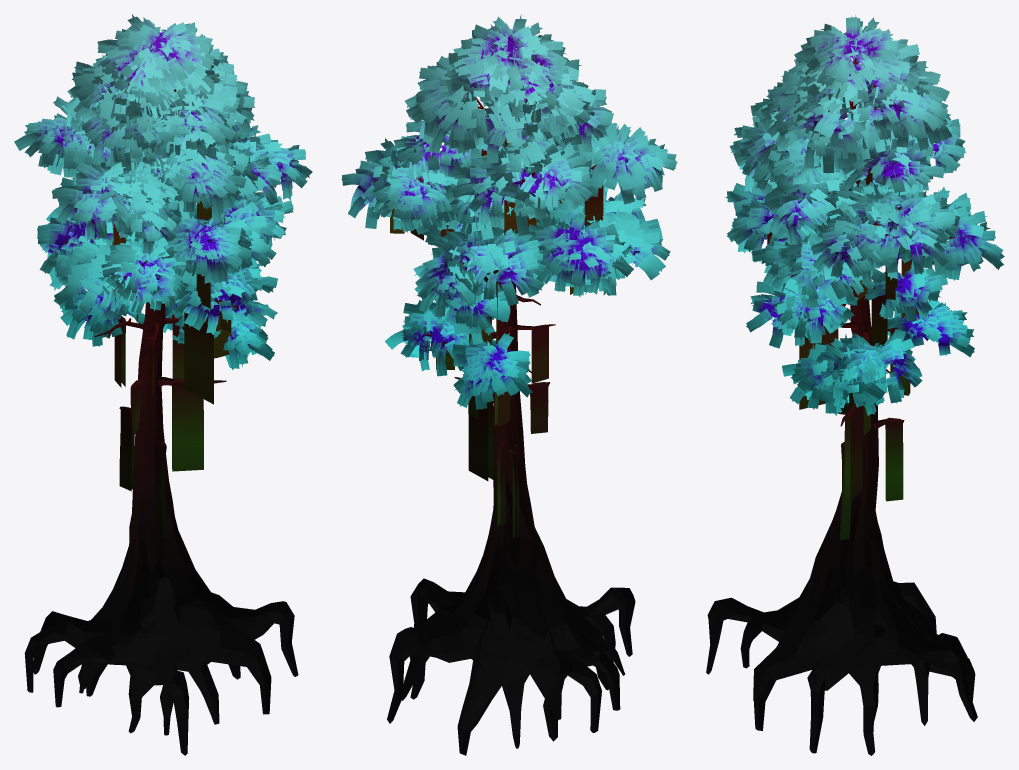
Rendered from SM_Env_Tree_Swamp_01.fbx.
3 views of the same model, side by side, from view 1: azimuth 30°, elevation 25°; view 2: azimuth 150°, elevation 25°; view 3: azimuth 270°, elevation 25° (orthographic).
Visible parts, largest first — view 1: SM_Env_Tree_Swamp_01_LOD0, SM_Env_Tree_Swamp_01_MOSS_LOD0; view 2: SM_Env_Tree_Swamp_01_LOD0, SM_Env_Tree_Swamp_01_MOSS_LOD0; view 3: SM_Env_Tree_Swamp_01_LOD0, SM_Env_Tree_Swamp_01_MOSS_LOD0.
Part boxes in pixels (left/top/right/bottom): SM_Env_Tree_Swamp_01_LOD0: left=14, top=14, right=312, bottom=755; SM_Env_Tree_Swamp_01_MOSS_LOD0: left=113, top=196, right=231, bottom=539; SM_Env_Tree_Swamp_01_LOD0: left=341, top=14, right=677, bottom=755; SM_Env_Tree_Swamp_01_MOSS_LOD0: left=390, top=138, right=603, bottom=538; SM_Env_Tree_Swamp_01_LOD0: left=706, top=15, right=1004, bottom=755; SM_Env_Tree_Swamp_01_MOSS_LOD0: left=767, top=168, right=934, bottom=539.
Size of what is drawn, in the model's own units: 1018 by 2439 by 956.
